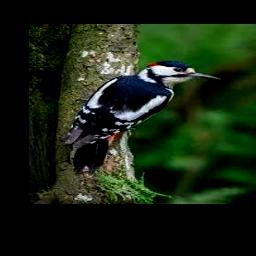Woodpecker: (65, 60, 221, 176)
